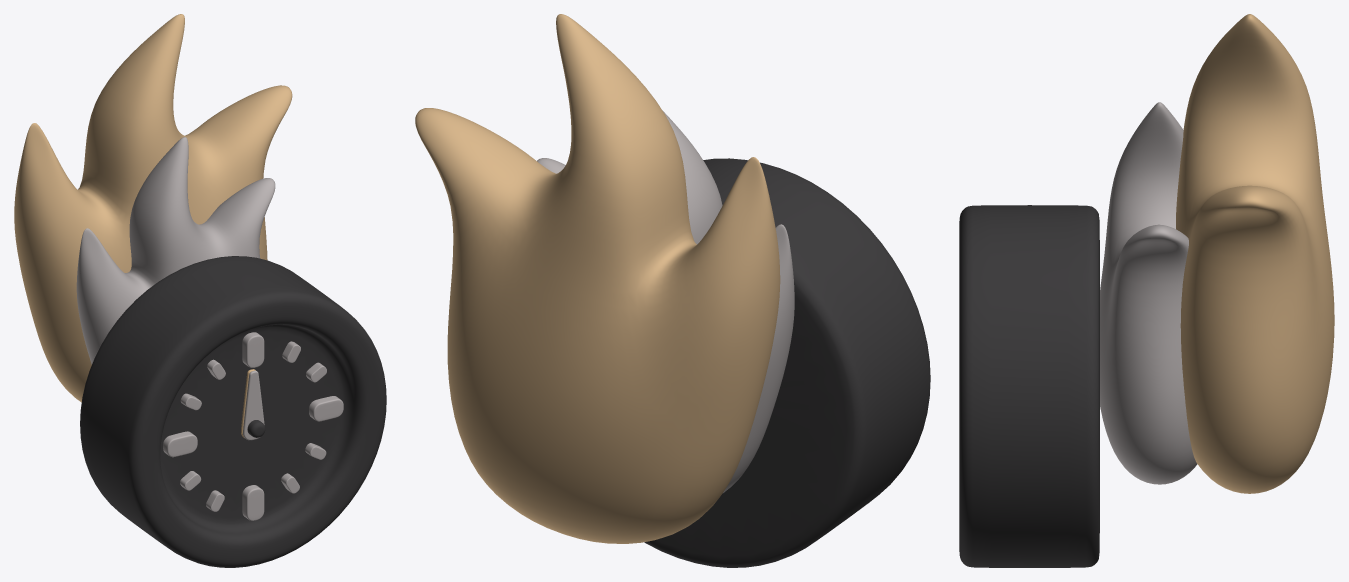
The model's file is hot-time-animated-3d-icon-693830127223.glb.
3 renders of one model, left to right at view 1: azimuth 30°, elevation 25°; view 2: azimuth 150°, elevation 25°; view 3: azimuth 270°, elevation 25°, orthographic. The views are drawn at different scales.
Visible parts, largest first — view 1: Base.005, Fire 2, Fire 1, Numbers A.005, Numbers B.005, Minute Pin.010; view 2: Fire 2, Base.005, Fire 1; view 3: Fire 2, Base.005, Fire 1.
Boxes of the visible parts, x1,y1,x2,y2 form: Base.005: [80, 256, 386, 567]; Fire 2: [14, 14, 292, 402]; Fire 1: [76, 137, 275, 364]; Numbers A.005: [163, 332, 343, 520]; Numbers B.005: [180, 341, 326, 511]; Minute Pin.010: [243, 370, 264, 440]; Fire 2: [415, 14, 780, 543]; Base.005: [644, 158, 930, 567]; Fire 1: [537, 110, 794, 492]; Fire 2: [1176, 14, 1334, 493]; Base.005: [959, 205, 1099, 567]; Fire 1: [1100, 102, 1197, 484].
Size of the model in its own units: 2.12 by 3.37 by 2.05.
